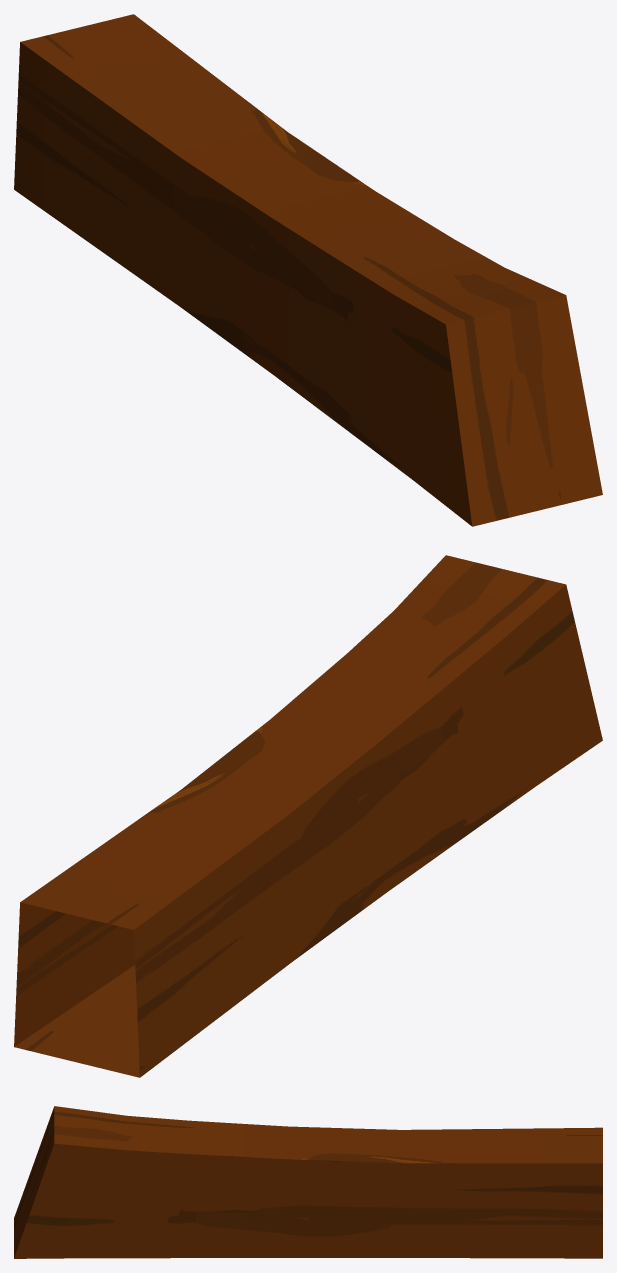
The model's file is SM_BLD_beam_small_v07_01.fbx.
3 views of the same model, one above another, from view 1: azimuth 30°, elevation 25°; view 2: azimuth 150°, elevation 25°; view 3: azimuth 270°, elevation 25° (orthographic). The views are drawn at different scales.
Parts seen in each view (by area): view 1: SM_BLD_beam_small_v07_01; view 2: SM_BLD_beam_small_v07_01; view 3: SM_BLD_beam_small_v07_01.
Boxes of the visible parts, x1,y1,x2,y2 form: SM_BLD_beam_small_v07_01: (14, 14, 602, 526); SM_BLD_beam_small_v07_01: (14, 555, 602, 1077); SM_BLD_beam_small_v07_01: (14, 1106, 602, 1258).
Bounding box in the file's own units: 49.53 × 65.47 × 303.
